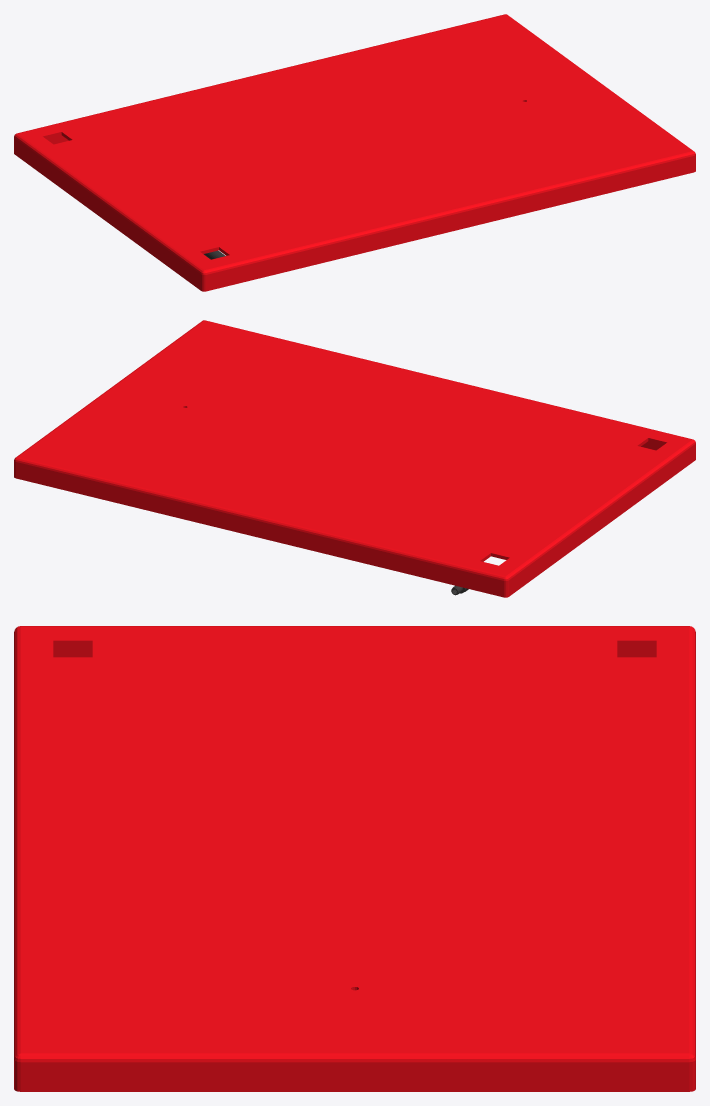
Rendered from Care_Down_Velodyne_Link.dae.
3 views of the same model, one above another, from view 1: azimuth 30°, elevation 25°; view 2: azimuth 150°, elevation 25°; view 3: azimuth 270°, elevation 25° (orthographic). The views are drawn at different scales.
Visible parts, largest first — view 1: Care Down Velodyne Link; view 2: Care Down Velodyne Link; view 3: Care Down Velodyne Link.
Boxes of the visible parts, x1,y1,x2,y2 form: Care Down Velodyne Link: (14, 14, 695, 291); Care Down Velodyne Link: (14, 320, 695, 597); Care Down Velodyne Link: (14, 626, 695, 1091).
Size of the model in its own units: 0.78 by 0.52 by 0.1489.
